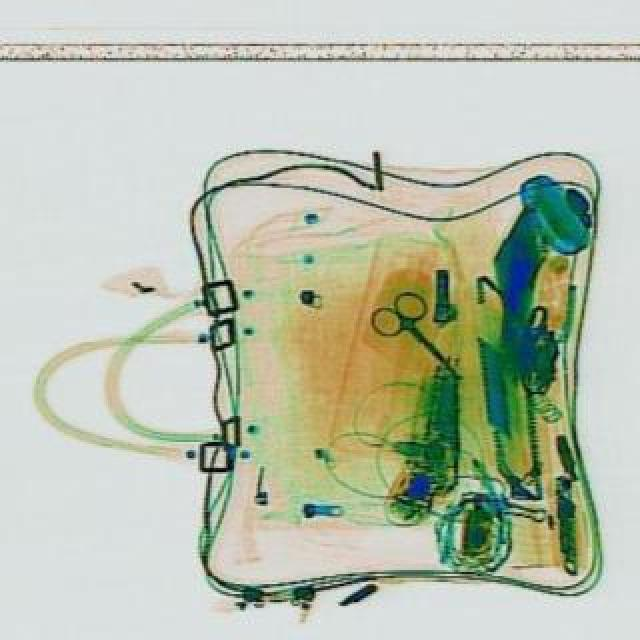pliers: (358, 282, 466, 384)
